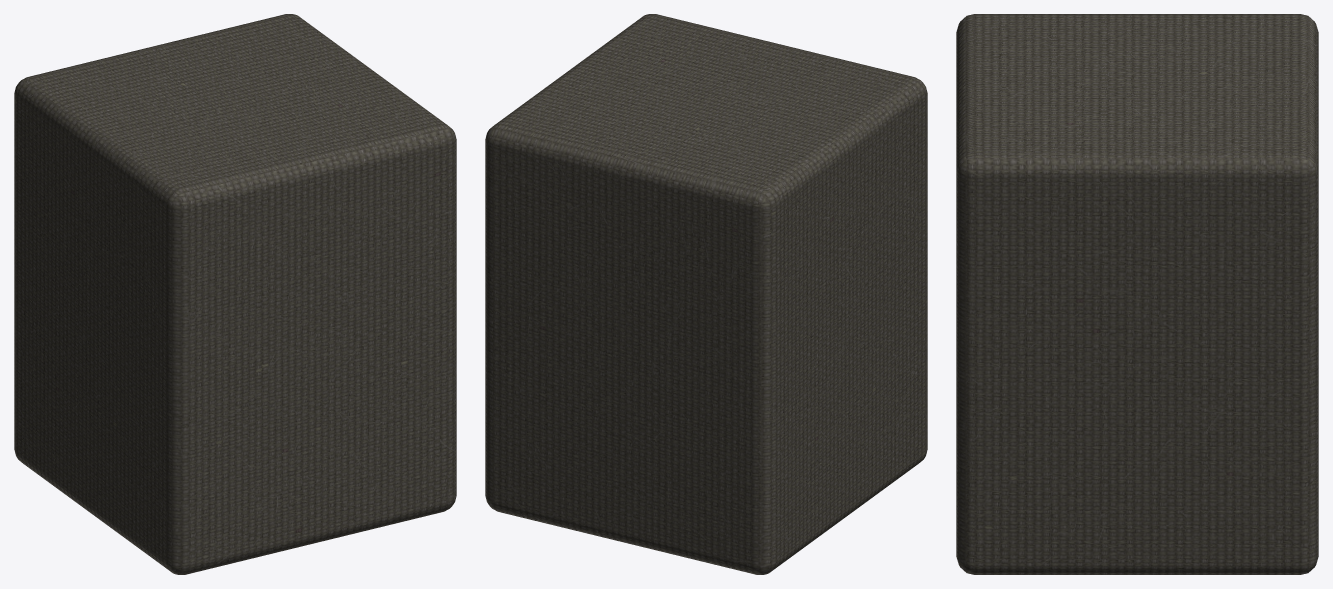
The model's file is gengyijian_dengzihong.fbx.
3 views of the same model, side by side, from view 1: azimuth 30°, elevation 25°; view 2: azimuth 150°, elevation 25°; view 3: azimuth 270°, elevation 25° (orthographic). The views are drawn at different scales.
Parts seen in each view (by area): view 1: gengyijian_dengzihong; view 2: gengyijian_dengzihong; view 3: gengyijian_dengzihong.
Boxes of the visible parts, bbox=[...] form: gengyijian_dengzihong: bbox=[14, 14, 456, 574]; gengyijian_dengzihong: bbox=[485, 14, 927, 574]; gengyijian_dengzihong: bbox=[956, 14, 1318, 574].
Size of the model in its own units: 49.03 by 62.77 by 49.03.
